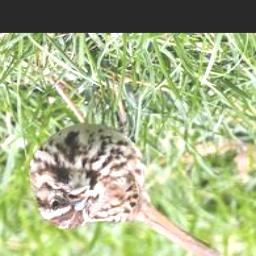Sparrow: (26, 88, 224, 256)
